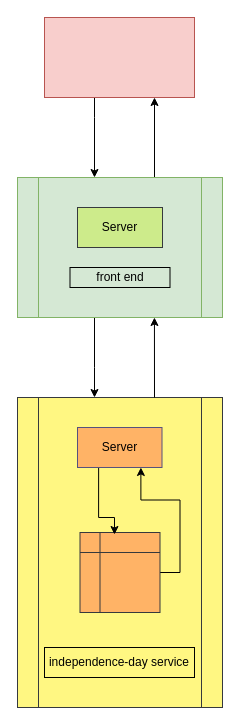
The diagram is 240 pixels wide and 725 high, and some of its shapes have lost their labels. Here are the shapes that lost their labels. From the top down, the box of each, then its label:
(44, 16, 194, 98): Browser/Terminal
(79, 532, 160, 612): Stored Values
